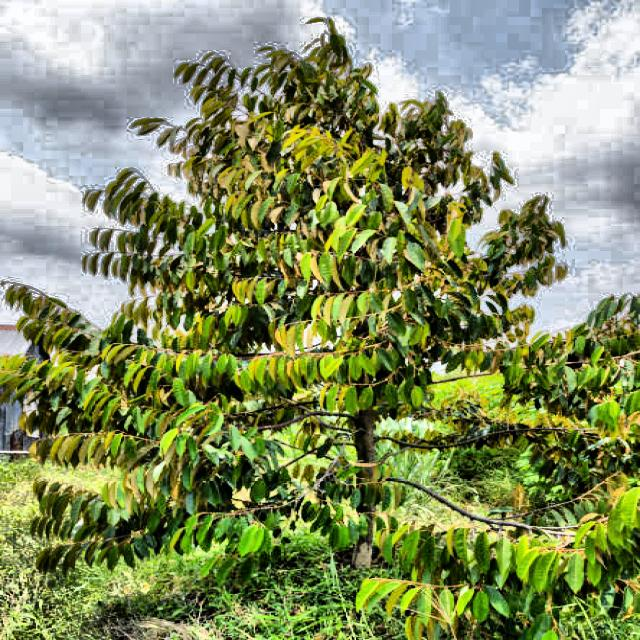arvore: (313, 348, 402, 605)
